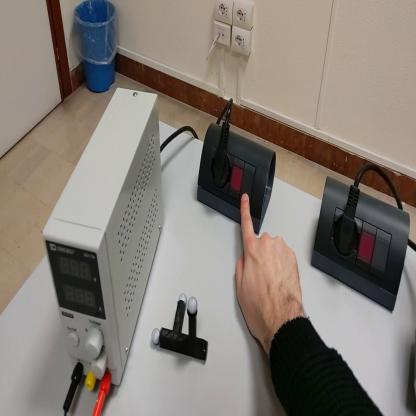hand: (233, 191, 307, 348)
power supply: (42, 85, 165, 392)
socket: (311, 173, 411, 316), (198, 123, 277, 236)
